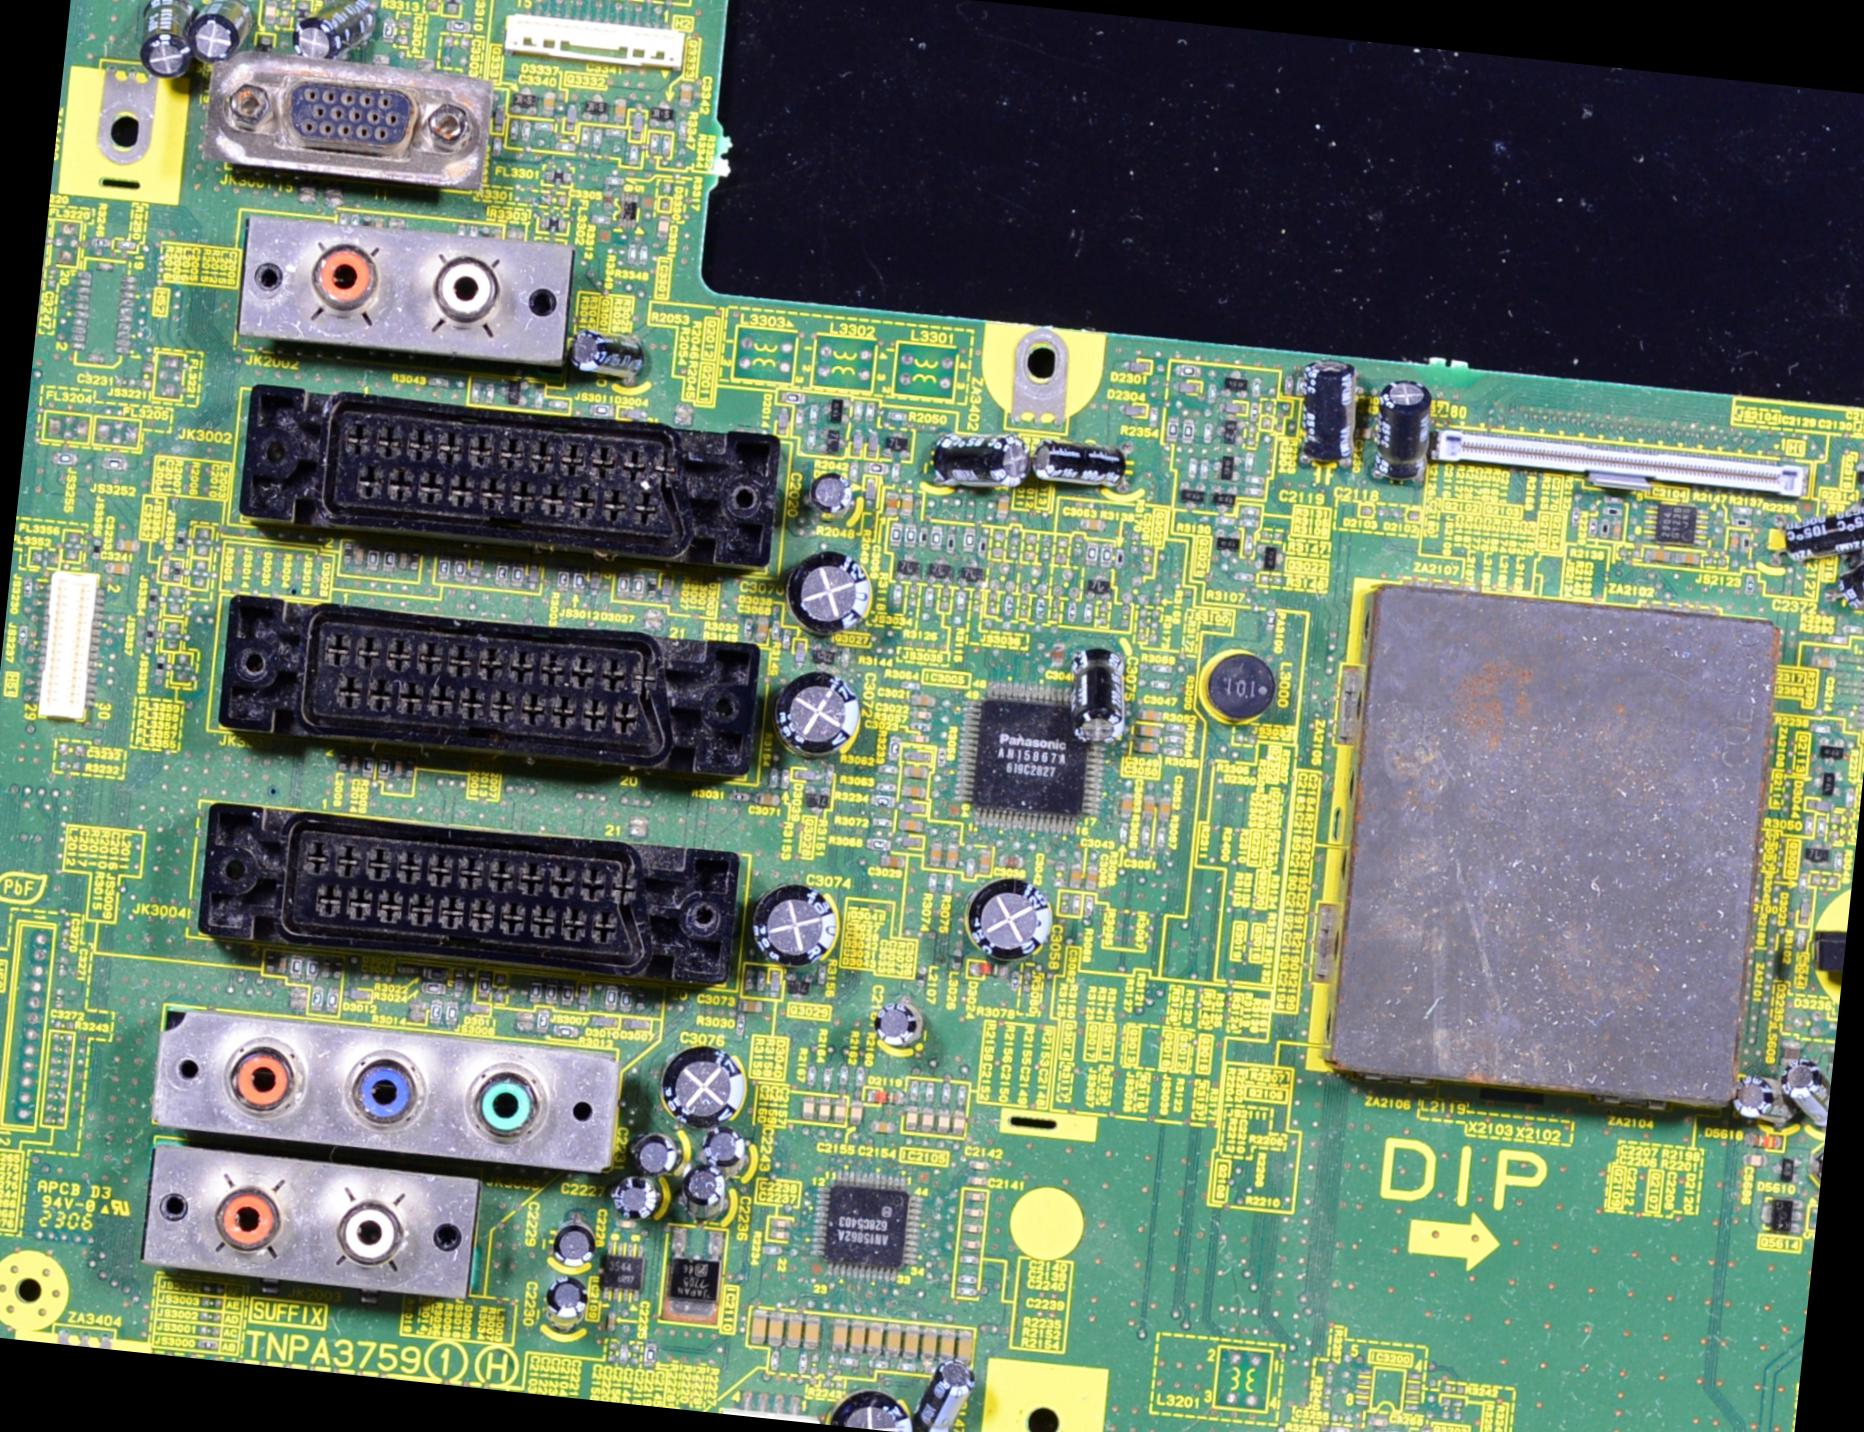Capacitor Jumper: (751, 889, 844, 993), (651, 1039, 749, 1125), (1372, 385, 1452, 489), (779, 666, 855, 775), (1286, 369, 1365, 466), (1064, 639, 1136, 742), (924, 426, 1031, 493), (1034, 430, 1134, 501), (1778, 484, 1862, 563), (561, 323, 656, 388), (800, 569, 876, 642), (824, 1376, 921, 1430), (134, 0, 203, 75), (916, 1355, 976, 1430), (1732, 1068, 1799, 1128), (299, 0, 360, 65), (1777, 1057, 1831, 1125), (677, 1158, 731, 1214), (876, 1000, 930, 1050), (546, 1217, 596, 1270), (193, 0, 241, 54), (612, 1170, 660, 1223), (537, 1274, 593, 1316), (629, 1131, 677, 1176), (1838, 532, 1862, 614), (698, 1127, 742, 1163), (679, 1241, 704, 1277), (898, 1328, 925, 1358), (954, 1331, 976, 1367), (829, 1318, 850, 1355), (1640, 545, 1676, 566), (803, 1313, 823, 1351), (1113, 793, 1140, 820), (876, 850, 910, 871), (918, 1327, 939, 1361), (882, 1327, 906, 1355), (766, 1313, 785, 1348), (797, 1094, 818, 1125), (784, 1316, 803, 1349), (973, 845, 994, 875), (937, 1330, 958, 1360), (1136, 705, 1166, 727), (1152, 791, 1170, 826), (844, 1098, 864, 1130), (1137, 793, 1157, 824), (1133, 724, 1166, 742), (990, 493, 1009, 523), (1742, 1151, 1769, 1170), (1723, 528, 1742, 555), (882, 487, 901, 514), (1080, 514, 1107, 534), (904, 763, 931, 782), (740, 997, 769, 1015), (1079, 866, 1100, 890), (925, 839, 943, 866), (903, 1107, 919, 1136), (751, 1313, 766, 1343), (897, 817, 927, 832), (815, 1097, 832, 1124), (943, 844, 960, 871), (850, 1327, 870, 1349), (1136, 739, 1161, 755), (1065, 860, 1080, 887), (868, 1324, 883, 1351), (898, 489, 913, 516), (1674, 551, 1700, 566), (901, 785, 927, 800), (949, 1113, 966, 1134), (832, 1098, 845, 1124), (921, 1109, 934, 1134), (936, 1113, 949, 1134)
Connector: (24, 560, 110, 718)
IC: (949, 680, 1107, 838), (803, 1170, 922, 1285), (662, 1230, 722, 1312), (1637, 496, 1714, 551), (593, 1238, 647, 1306), (1804, 1203, 1816, 1235)
Resistor Jumper: (818, 1065, 836, 1097), (286, 952, 304, 982), (1161, 415, 1181, 442), (1179, 417, 1196, 445), (835, 1063, 853, 1089), (642, 1342, 660, 1367), (305, 957, 320, 985), (1173, 363, 1202, 378), (421, 979, 447, 996), (427, 999, 444, 1023), (361, 757, 378, 781), (803, 1063, 818, 1089), (442, 999, 456, 1026), (308, 985, 323, 1009), (323, 985, 337, 1009), (852, 1063, 865, 1086), (617, 1343, 632, 1363), (478, 975, 490, 997), (378, 758, 388, 781), (1146, 408, 1158, 426)
Transistor: (1759, 1191, 1805, 1239), (1795, 836, 1843, 878), (921, 549, 958, 590), (1813, 733, 1852, 770), (821, 387, 855, 427), (1175, 477, 1210, 514), (1213, 450, 1247, 486), (1810, 766, 1843, 803), (1252, 543, 1286, 578), (952, 558, 987, 593), (779, 969, 815, 1002), (1213, 525, 1246, 561), (812, 424, 850, 456), (880, 430, 913, 465), (800, 781, 833, 815), (889, 552, 927, 582), (1771, 1154, 1804, 1187), (1222, 370, 1258, 400), (1208, 484, 1240, 516), (1213, 417, 1259, 435), (1088, 572, 1113, 603)
